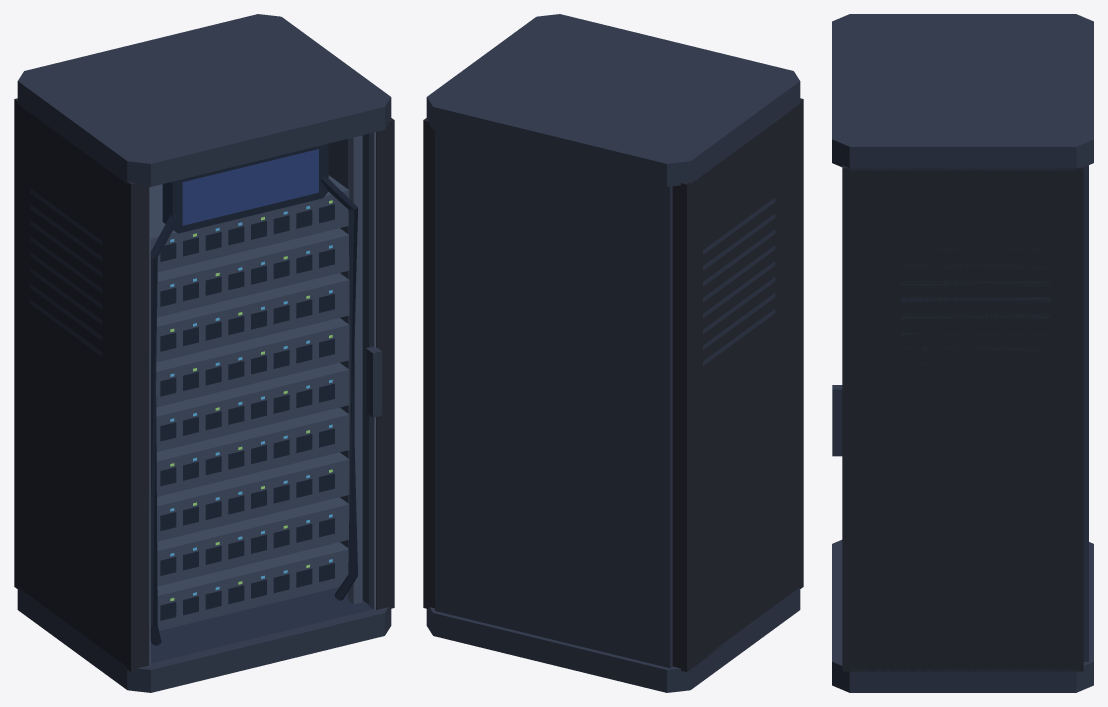
The model's file is off_office_server_rack.glb.
3 views of the same model, side by side, from view 1: azimuth 30°, elevation 25°; view 2: azimuth 150°, elevation 25°; view 3: azimuth 270°, elevation 25° (orthographic). The views are drawn at different scales.
Visible parts, largest first — view 1: door_glass, sound_liner, door_stile, end_caps, diagnostics, print, rack_rail, link.001; view 2: end_caps, sound_liner; view 3: sound_liner, end_caps.
Part boxes in pixels (x1,y1,x2,y2): door_glass: (151,133,372,663); sound_liner: (14,98,394,671); door_stile: (149,132,375,664); end_caps: (17,14,391,692); diagnostics: (150,144,357,645); print: (182,149,318,225); rack_rail: (348,135,362,604); link.001: (170,206,332,595); end_caps: (426,14,800,692); sound_liner: (423,98,803,671); sound_liner: (842,165,1083,671); end_caps: (832,14,1093,692).
Bounding box in the file's own units: 1.2 × 2.3 × 1.
